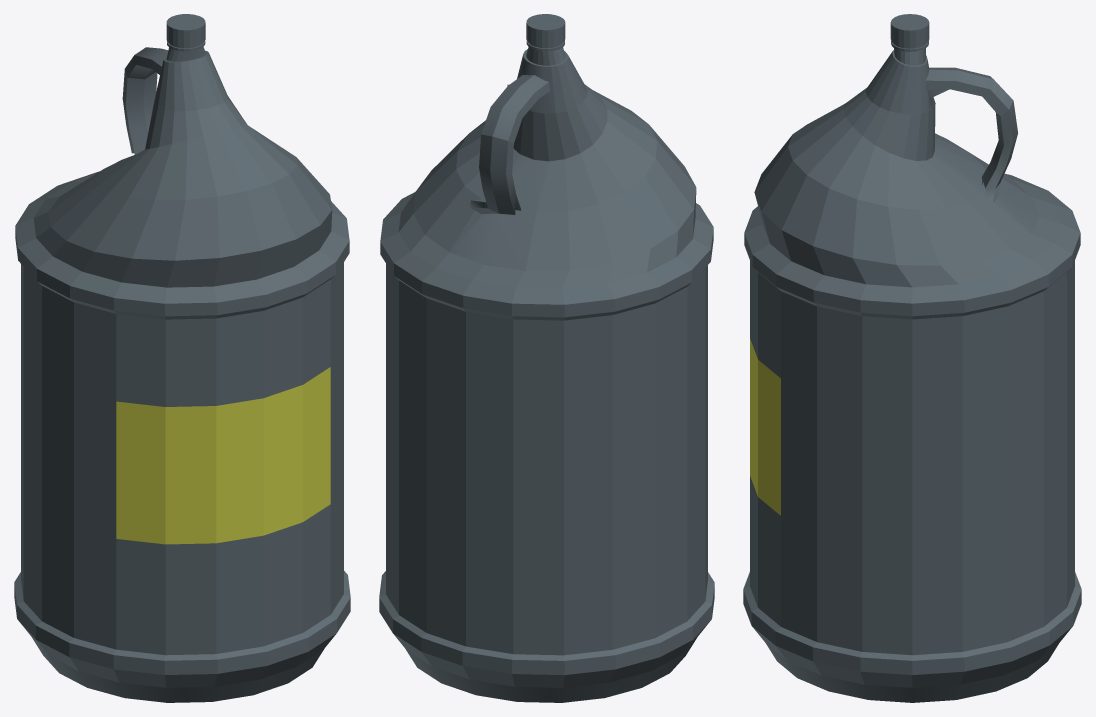
File: pet.fbx
3 renders of one model, left to right at view 1: azimuth 30°, elevation 25°; view 2: azimuth 150°, elevation 25°; view 3: azimuth 270°, elevation 25°, orthographic.
Parts seen in each view (by area): view 1: pTorus2; view 2: pTorus2; view 3: pTorus2.
Part boxes in pixels (bbox=[...]): pTorus2: bbox=[14, 14, 350, 702]; pTorus2: bbox=[379, 14, 714, 702]; pTorus2: bbox=[743, 14, 1081, 702].
Bounding box in the file's own units: 1.19 × 2.41 × 1.19.
